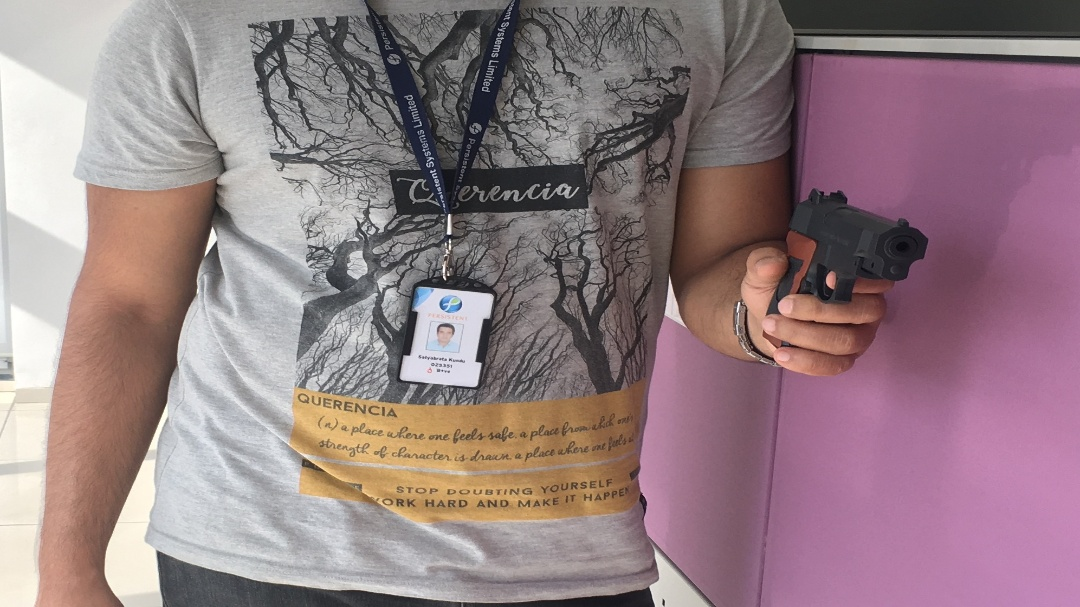gun: (778, 188, 930, 306)
